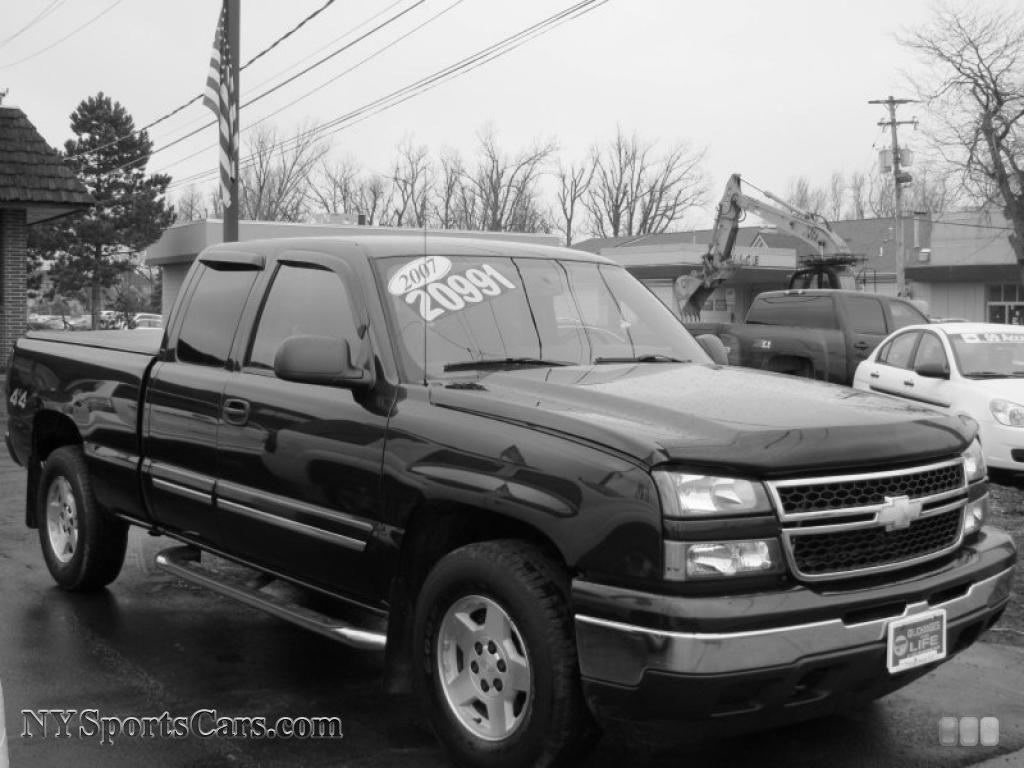car: (7, 226, 1022, 767)
